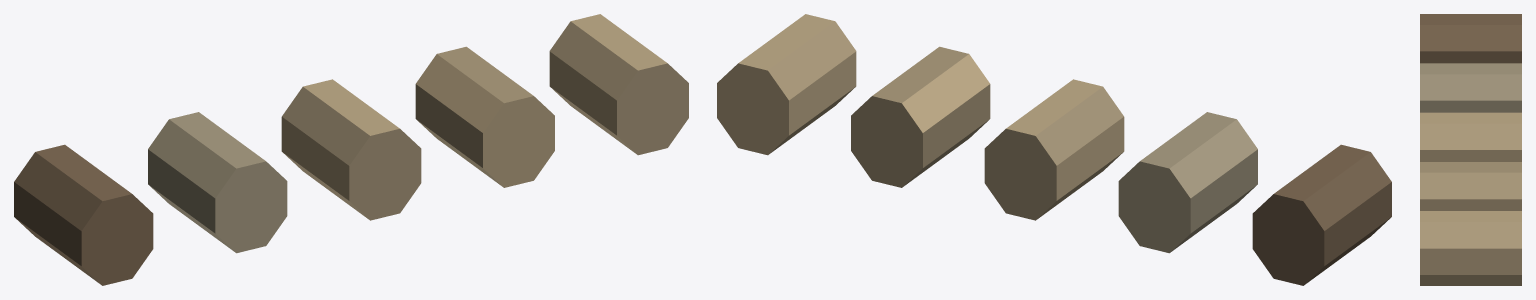
Rendered from walk_prop_goods_wool.glb.
The picture shows the model from 3 angles, left to right: view 1: azimuth 30°, elevation 25°; view 2: azimuth 150°, elevation 25°; view 3: azimuth 270°, elevation 25°; orthographic projection. The views are drawn at different scales.
Visible parts, largest first — view 1: walk_prop_goods_wool; view 2: walk_prop_goods_wool; view 3: walk_prop_goods_wool.
Boxes of the visible parts, x1,y1,x2,y2 form: walk_prop_goods_wool: [14, 14, 688, 285]; walk_prop_goods_wool: [717, 14, 1391, 285]; walk_prop_goods_wool: [1420, 14, 1521, 285].
Size of the model in its own units: 2.5 by 0.3326 by 0.48.
Materials: 1 (1 with a texture image).
